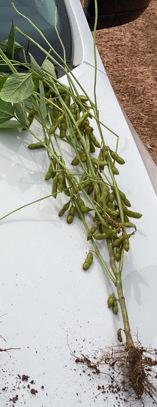soja: (111, 148, 129, 166), (48, 113, 62, 136), (48, 176, 60, 199), (42, 160, 55, 181), (120, 190, 136, 207), (30, 137, 47, 153), (80, 255, 95, 273), (74, 113, 90, 129), (123, 208, 144, 220), (89, 134, 103, 151), (109, 160, 122, 177), (113, 296, 123, 318), (113, 235, 127, 249), (114, 248, 126, 264), (100, 187, 110, 206), (60, 119, 69, 140), (57, 201, 69, 216), (68, 207, 77, 227), (78, 181, 93, 193), (59, 97, 71, 110), (106, 208, 120, 219), (88, 226, 97, 243), (89, 158, 108, 166), (79, 199, 89, 213), (94, 233, 110, 241), (106, 295, 115, 309), (87, 143, 98, 154), (60, 175, 66, 193), (88, 183, 95, 198), (124, 240, 132, 252), (86, 125, 96, 134), (80, 153, 88, 164), (73, 158, 80, 167), (66, 188, 70, 198)
